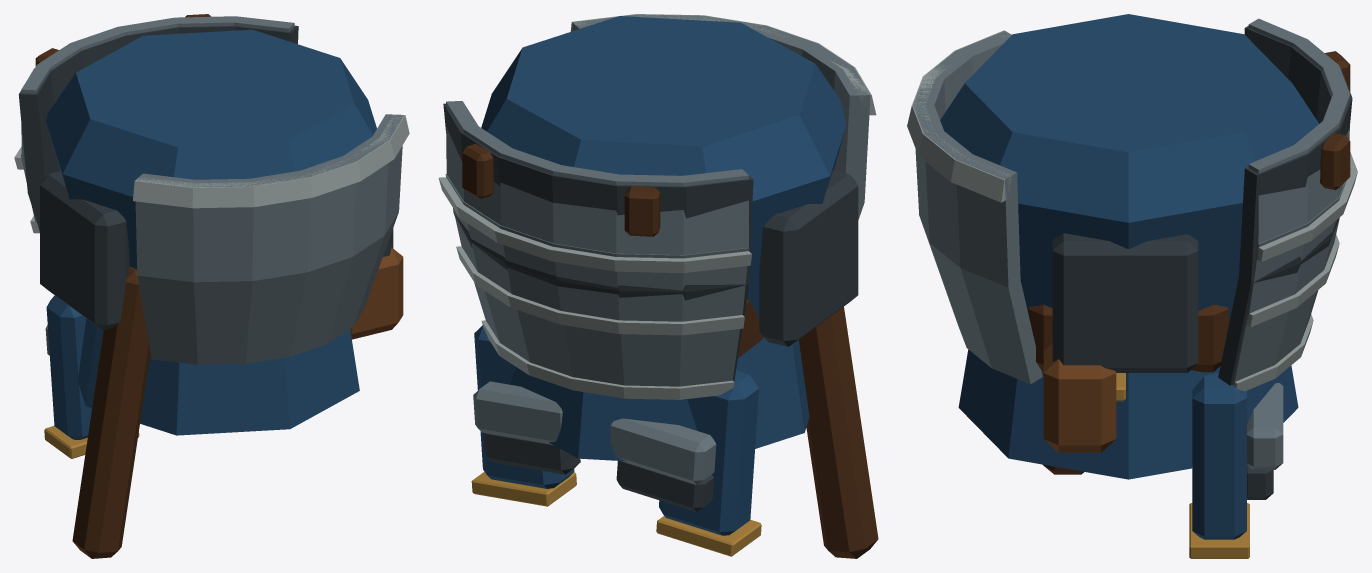
The model's file is Body.glb.
3 views of the same model, side by side, from view 1: azimuth 30°, elevation 25°; view 2: azimuth 150°, elevation 25°; view 3: azimuth 270°, elevation 25° (orthographic). The views are drawn at different scales.
Visible parts, largest first — view 1: Sculpture; view 2: Sculpture; view 3: Sculpture.
Boxes of the visible parts, left/top/right/bottom form: Sculpture: left=14, top=14, right=409, bottom=558; Sculpture: left=438, top=14, right=878, bottom=558; Sculpture: left=907, top=14, right=1357, bottom=558.
Bounding box in the file's own units: 0.6935 × 0.8496 × 0.743.
